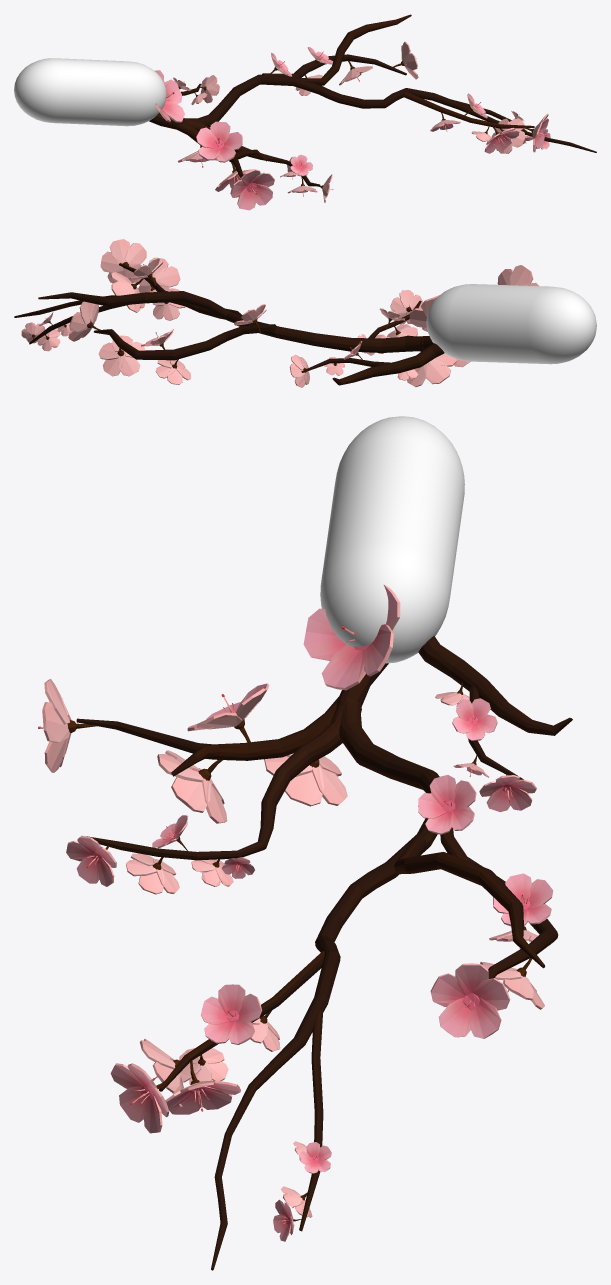
The model's file is CherryBlossomAnchor.fbx.
3 renders of one model, top to bottom at view 1: azimuth 30°, elevation 25°; view 2: azimuth 150°, elevation 25°; view 3: azimuth 270°, elevation 25°, orthographic. The views are drawn at different scales.
Parts seen in each view (by area): view 1: Capsule__4_, cherry_blossom_flowers, cherryblossombranch; view 2: Capsule__4_, cherry_blossom_flowers, cherryblossombranch; view 3: cherry_blossom_flowers, cherryblossombranch, Capsule__4_.
Boxes of the visible parts, <box> form: Capsule__4_: <box>14,58,166,126</box>; cherry_blossom_flowers: <box>154,41,550,210</box>; cherryblossombranch: <box>149,14,596,186</box>; Capsule__4_: <box>426,284,596,364</box>; cherry_blossom_flowers: <box>21,239,539,387</box>; cherryblossombranch: <box>14,263,444,385</box>; cherry_blossom_flowers: <box>38,584,553,1241</box>; cherryblossombranch: <box>76,636,572,1270</box>; Capsule__4_: <box>320,416,464,663</box>.
Bounding box in the file's own units: 58.95 × 19.04 × 25.69.
